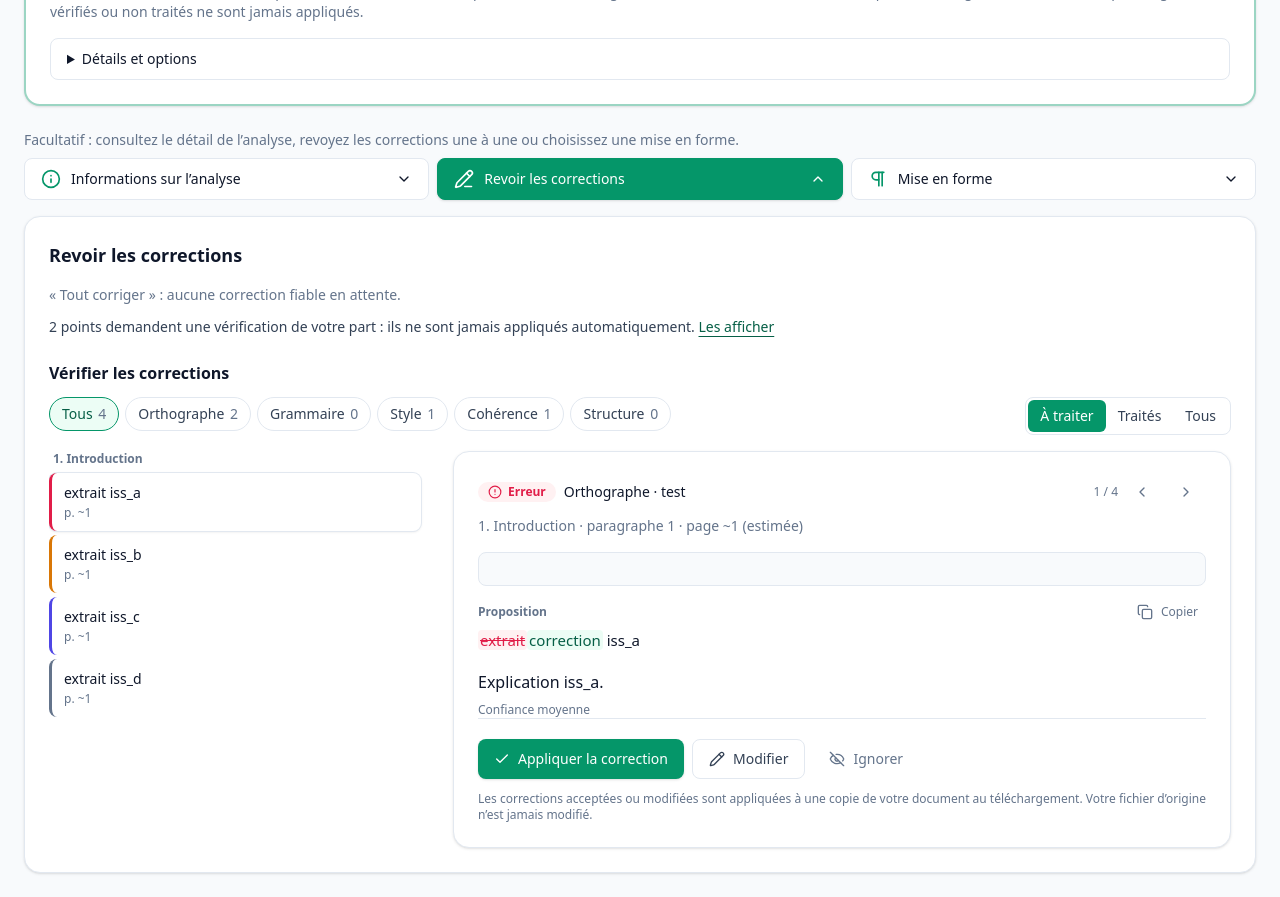
Test: Compteur « points traités » après une décision › décisions rapides dont les réponses arrivent dans le désordre : le compteur ne recule pas
(page scrolled)
Click the button "Ignorer".
click(866, 759)  # box [814,739,919,779]
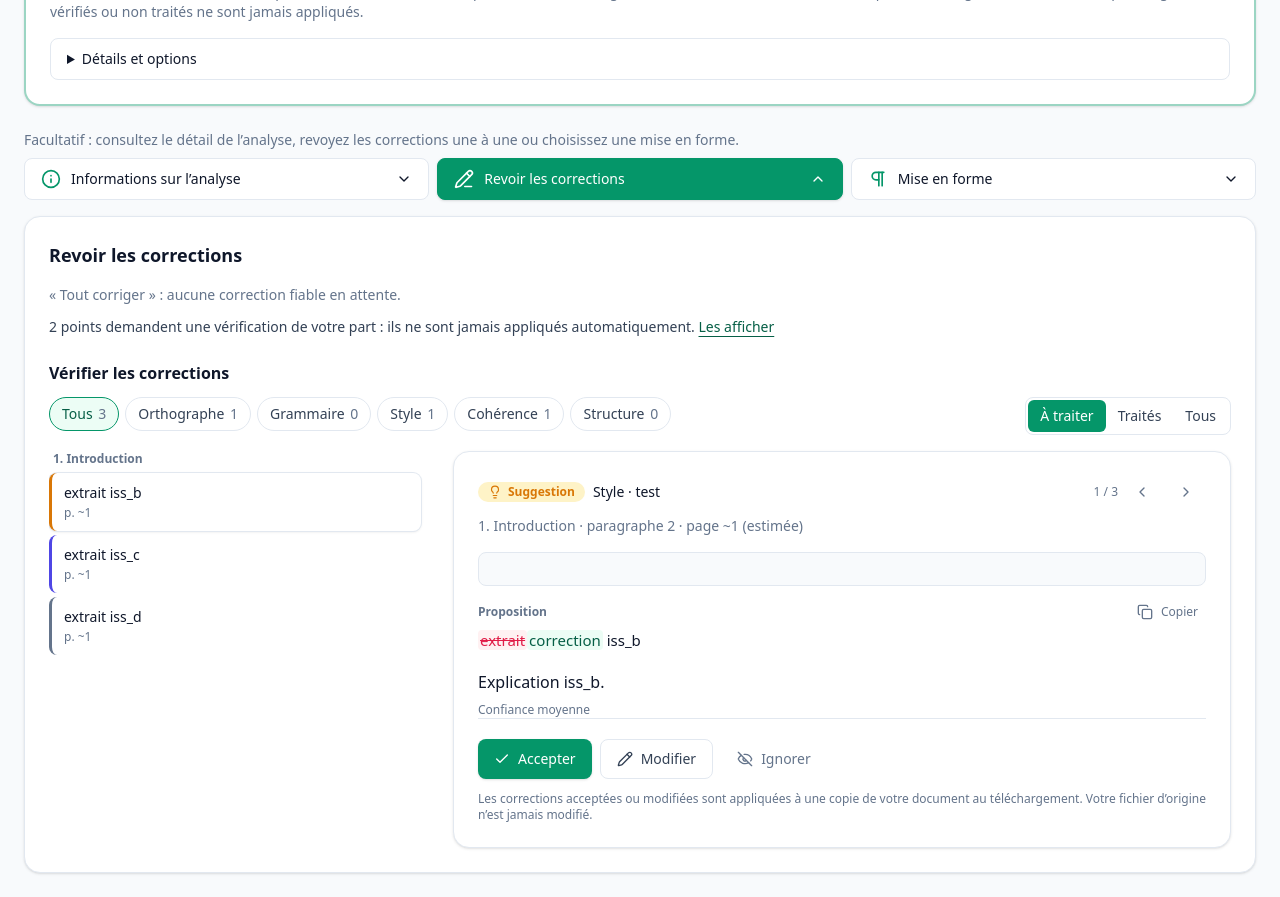
Click the button "Ignorer".
click(774, 759)  # box [721,739,827,779]
(page scrolled)
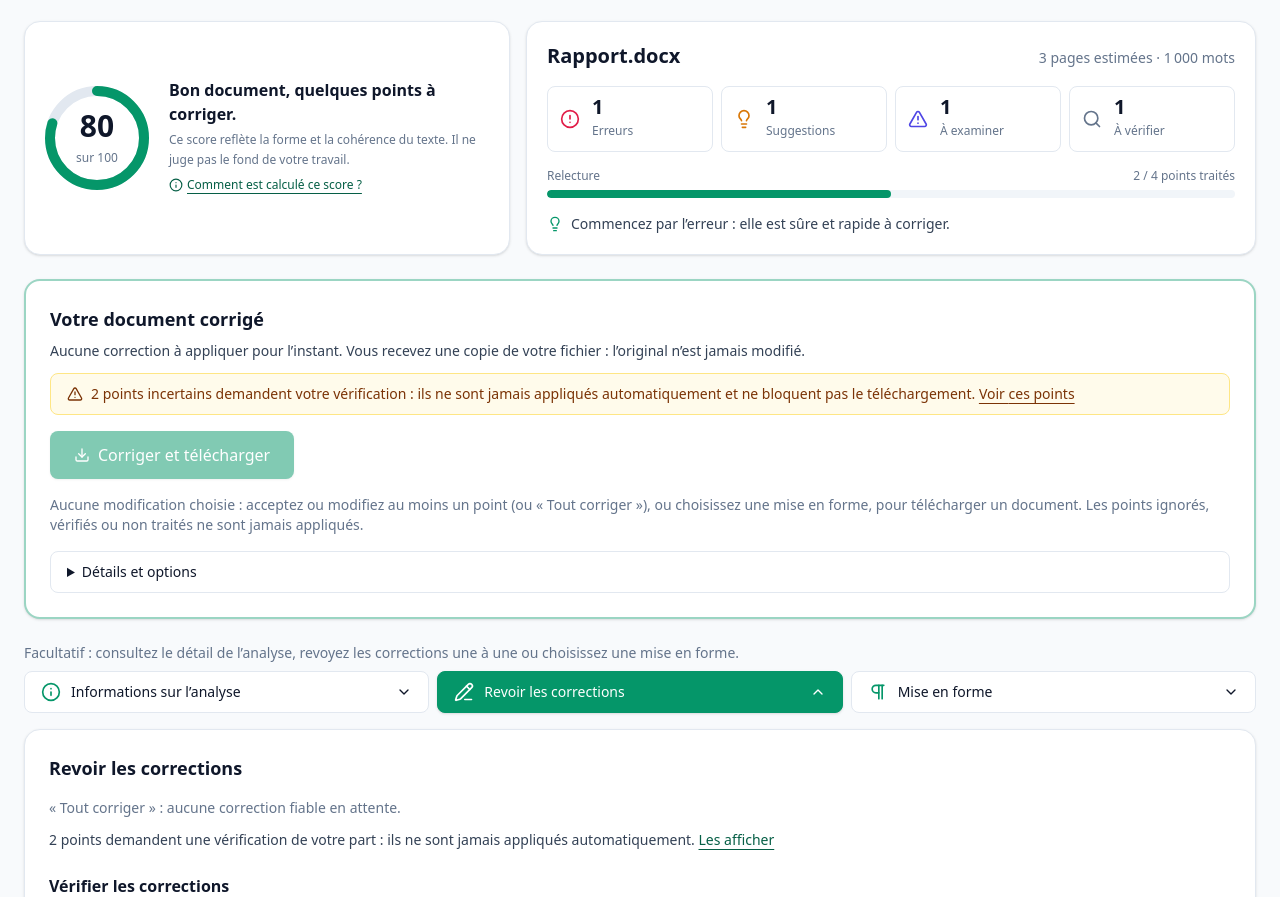
expect the text "2 / 4 points traités" is shown: met, box [1133,168,1235,184]
